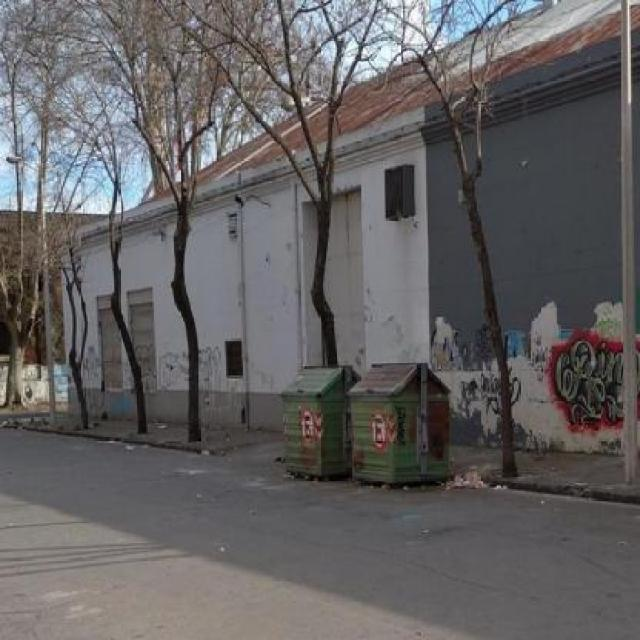garbage: (434, 453, 492, 499)
